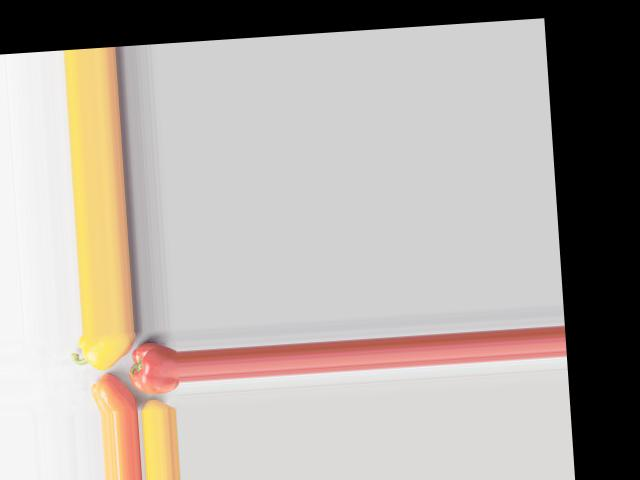bell_pepper: (128, 337, 178, 395)
